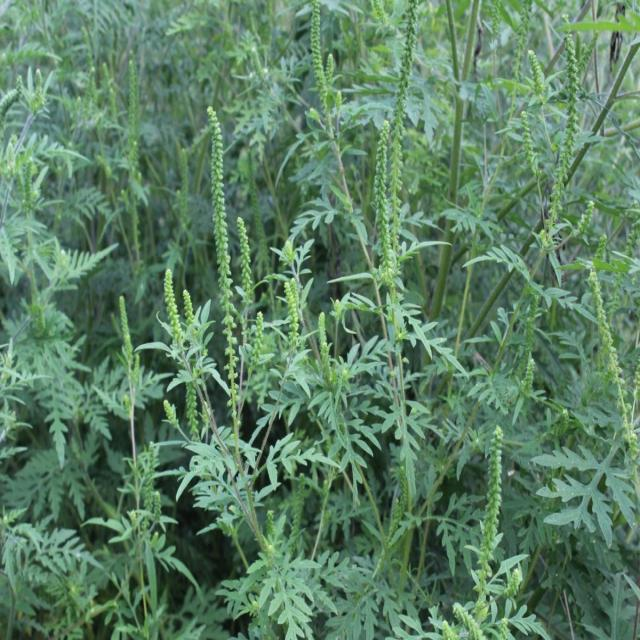ambrosia: (173, 97, 274, 455), (559, 214, 640, 531), (360, 0, 430, 366), (92, 296, 169, 622), (497, 18, 616, 227), (443, 387, 534, 635), (104, 30, 150, 294), (275, 259, 350, 418), (298, 0, 350, 136), (16, 50, 60, 145)
